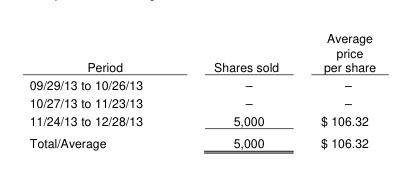table: (28, 29, 375, 150)
table column: (28, 29, 177, 150), (177, 29, 299, 150), (299, 29, 375, 150)
table column header: (28, 29, 375, 75)
table row: (28, 29, 375, 75), (28, 111, 375, 131), (28, 131, 375, 150), (28, 75, 375, 93), (28, 93, 375, 111)
